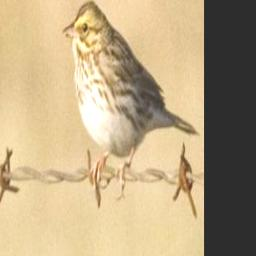Sparrow: (60, 0, 199, 199)
